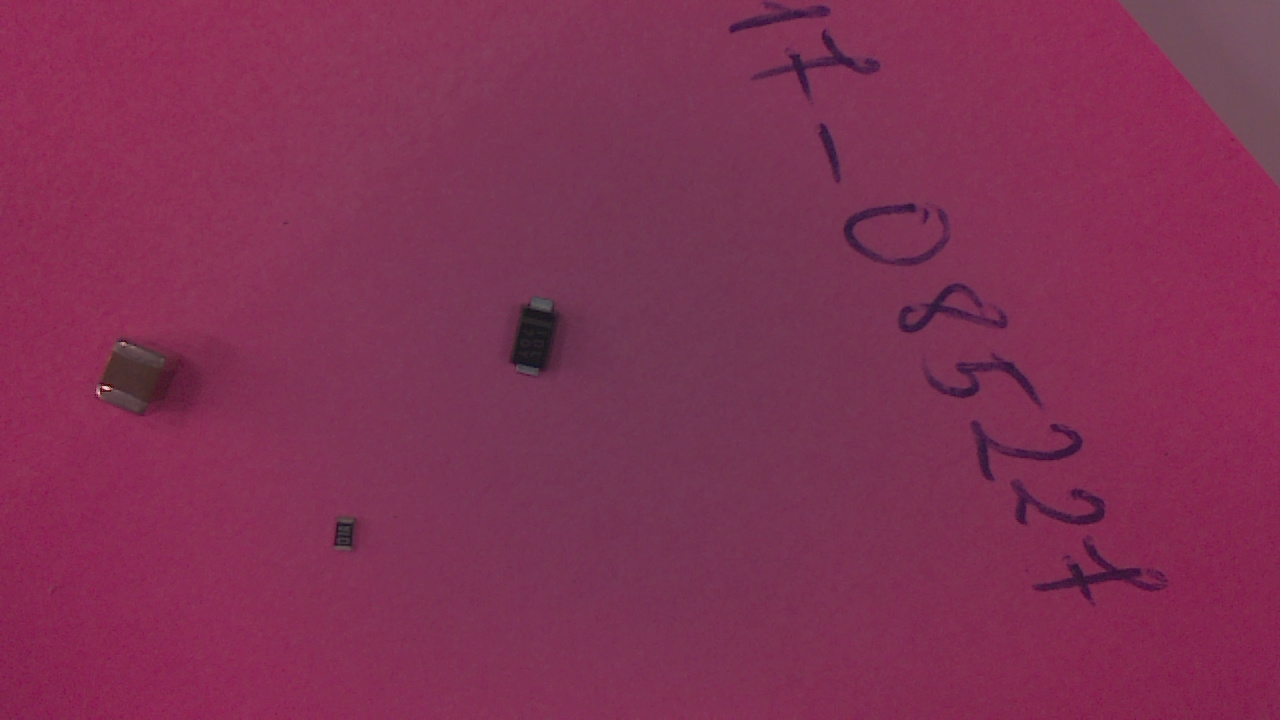Condensator: (100, 342, 181, 423)
Diode: (508, 302, 571, 384)
Resistor: (330, 521, 371, 559)
